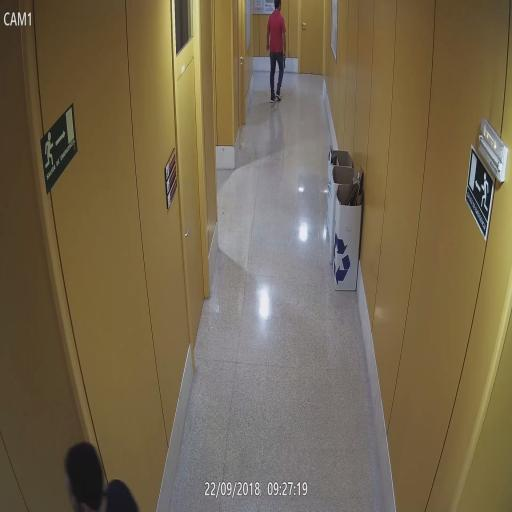Handgun: (281, 49, 287, 68)
